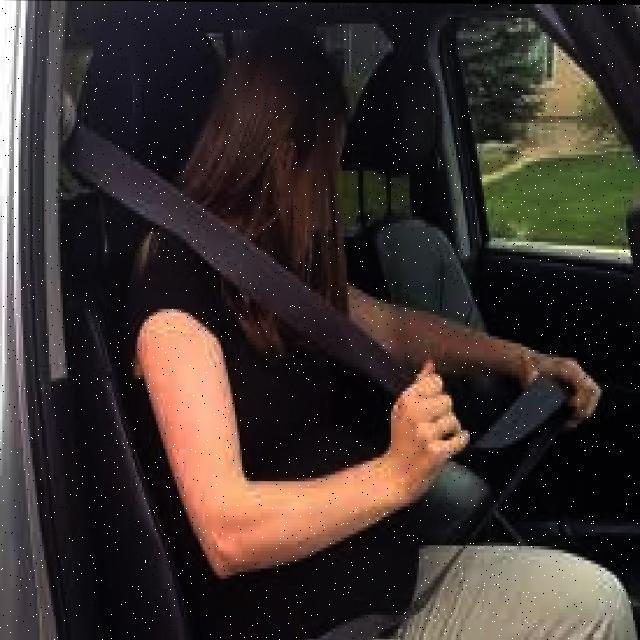seatbelt: (128, 191, 578, 619)
